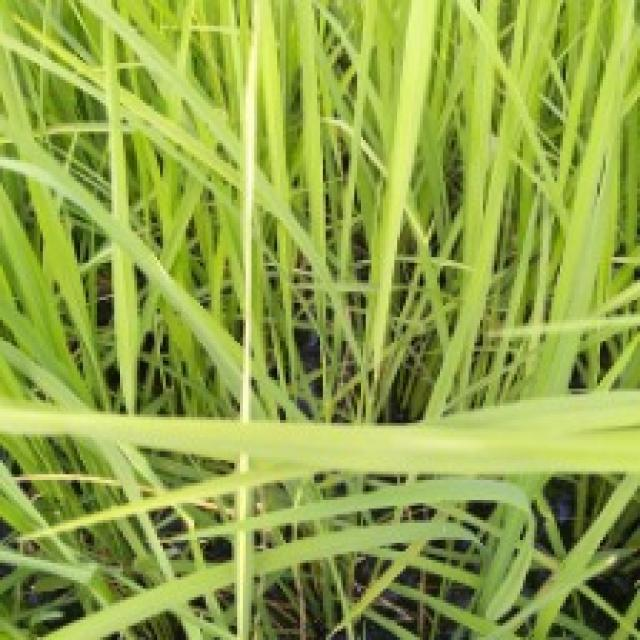Rice___Bacterial_Leaf_Blight: (0, 387, 637, 476)
